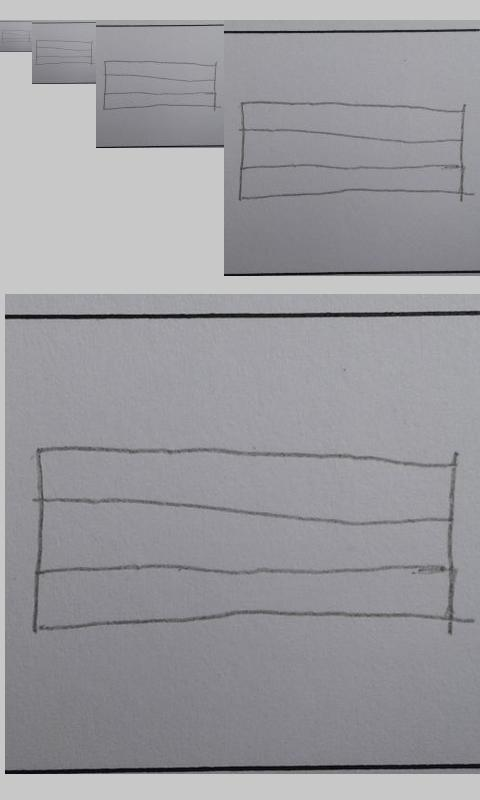list_view: (30, 439, 460, 633), (237, 97, 468, 203), (103, 59, 217, 111), (35, 39, 95, 66), (1, 29, 31, 43)
